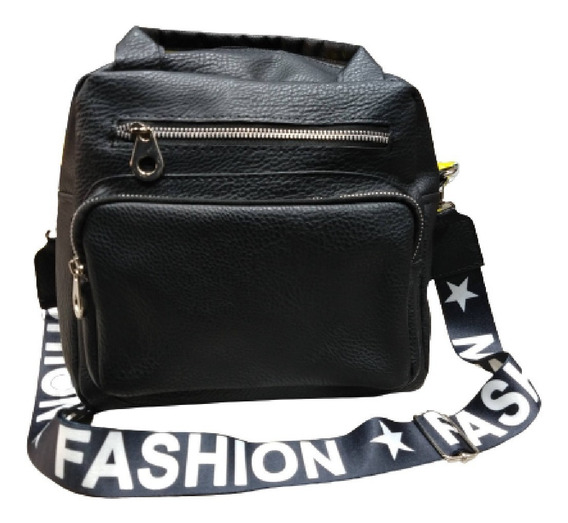cartera: (51, 25, 450, 414)
